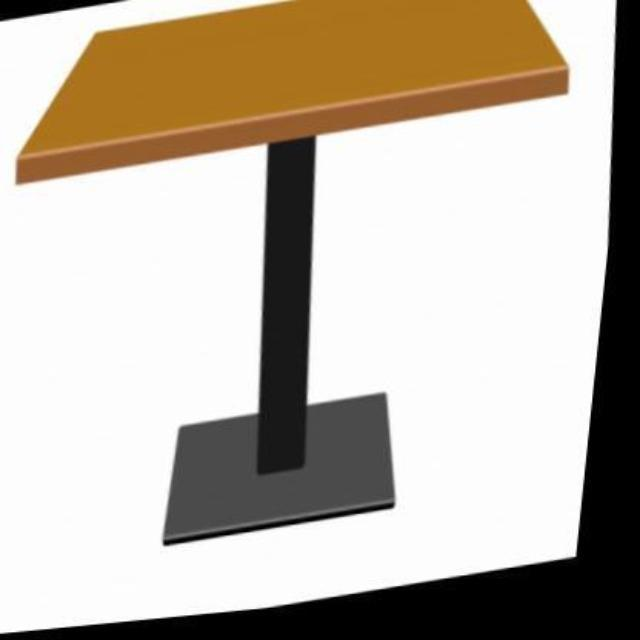table: (24, 3, 569, 550)
